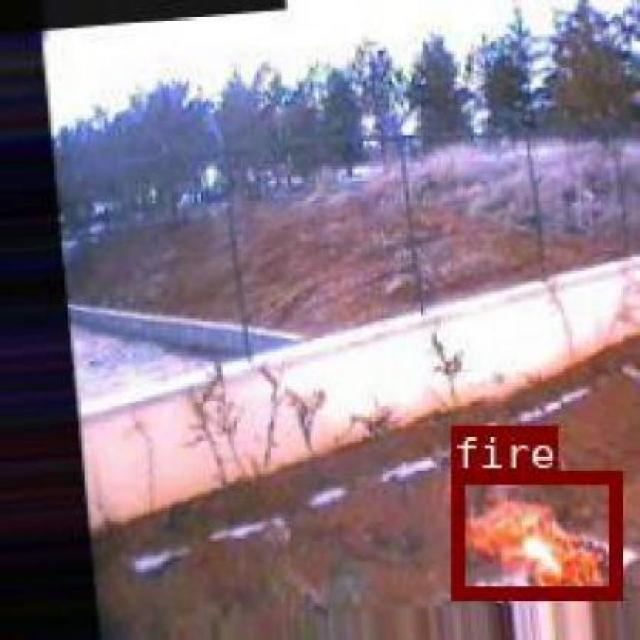Fire: (451, 470, 620, 596)
